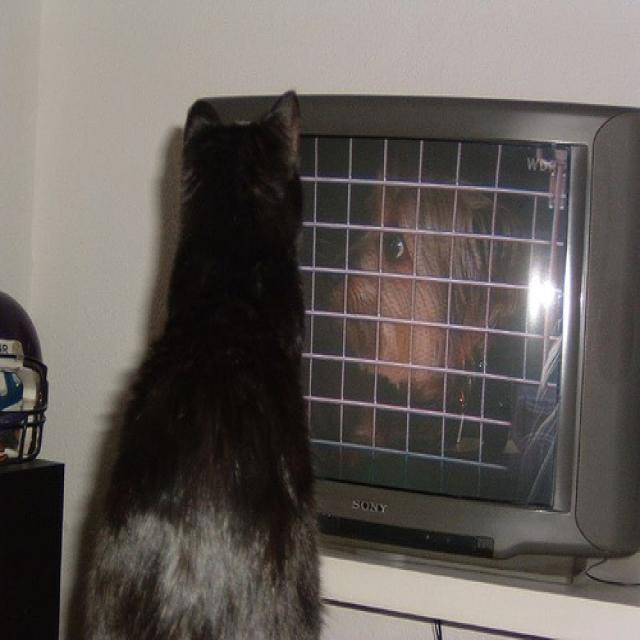dog: (318, 159, 532, 435)
